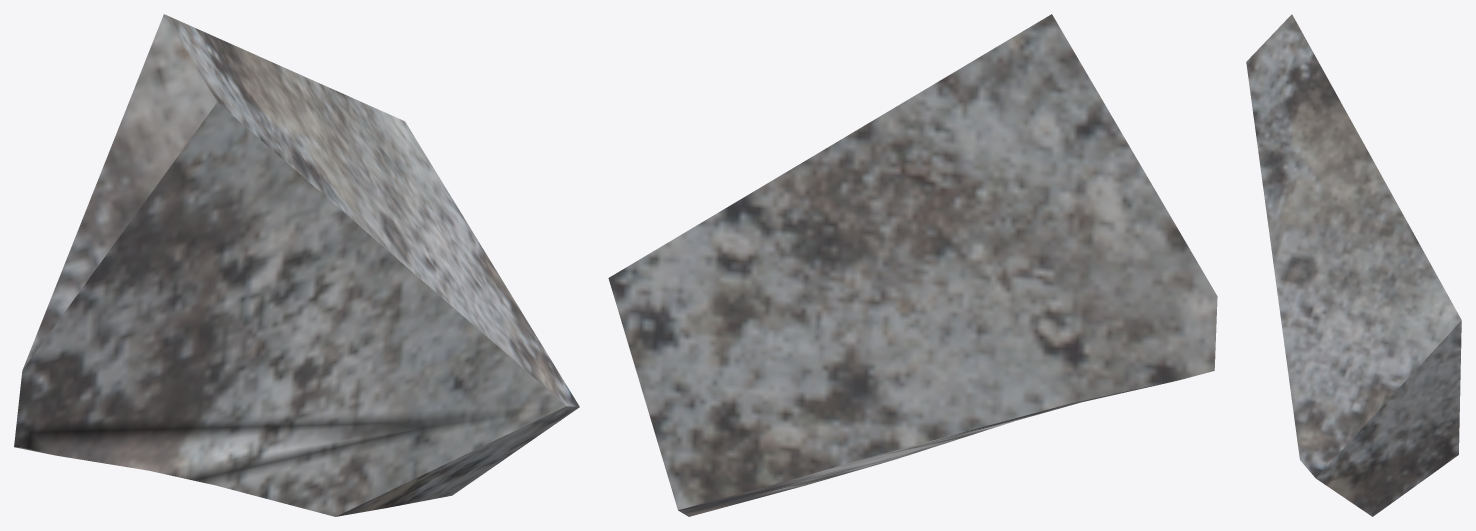
File: Asteroid_Large_001_02_012_03_016.fbx
3 renders of one model, left to right at view 1: azimuth 30°, elevation 25°; view 2: azimuth 150°, elevation 25°; view 3: azimuth 270°, elevation 25°, orthographic. The views are drawn at different scales.
Parts seen in each view (by area): view 1: Asteroid_Large_001_02_012_03_016; view 2: Asteroid_Large_001_02_012_03_016; view 3: Asteroid_Large_001_02_012_03_016.
Boxes of the visible parts, x1=… form: Asteroid_Large_001_02_012_03_016: x1=14, y1=14, x2=579, y2=516; Asteroid_Large_001_02_012_03_016: x1=608, y1=14, x2=1217, y2=516; Asteroid_Large_001_02_012_03_016: x1=1246, y1=14, x2=1461, y2=516.
Size of the model in its own units: 5.73 by 5.58 by 2.77.
